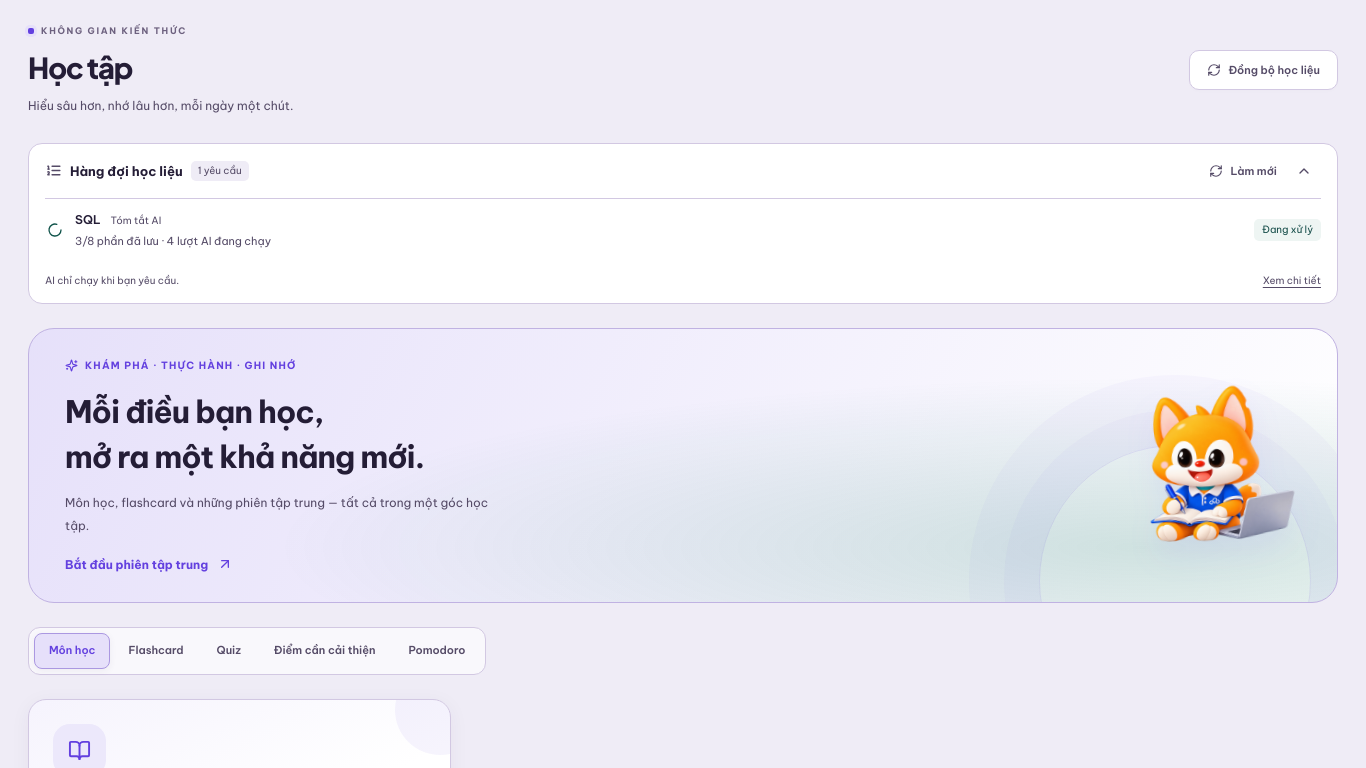
Test: Manual AI summaries and visible sequential queue › shows parallel part progress for the active course without starting more AI
expect the text "3/8 phần đã lưu · 4 lượt AI đang chạy" is shown: met, box [75,234,271,248]
Click the button "Xem chi tiết". click: (1292, 281)
box: [1263,270,1321,292]
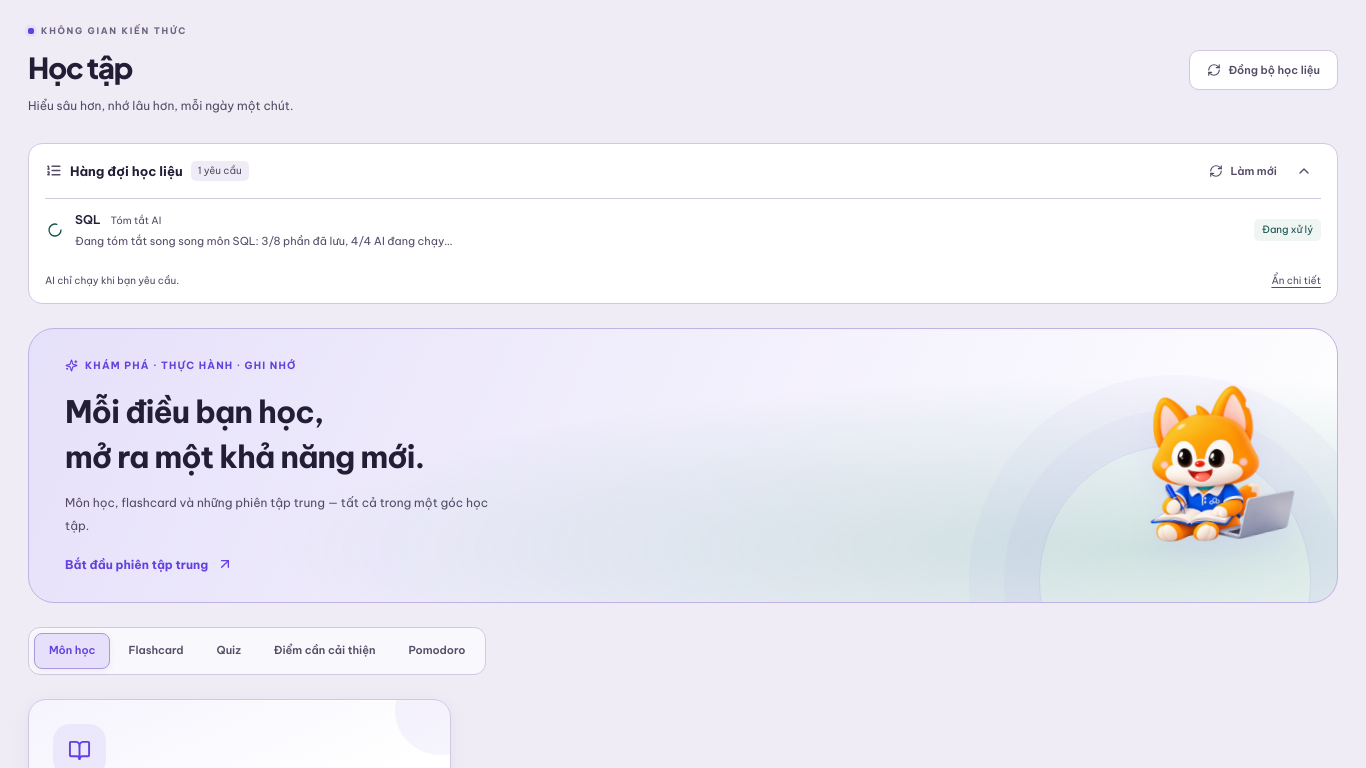
expect the text "Đang tóm tắt song song môn SQL: 3/8 phần đã lưu, 4/4 AI đang chạy…" is shown: met, box [75,234,452,248]
Click the button named "Thu gọn hàng đợi". click: (1304, 171)
box: [1287,156,1321,186]
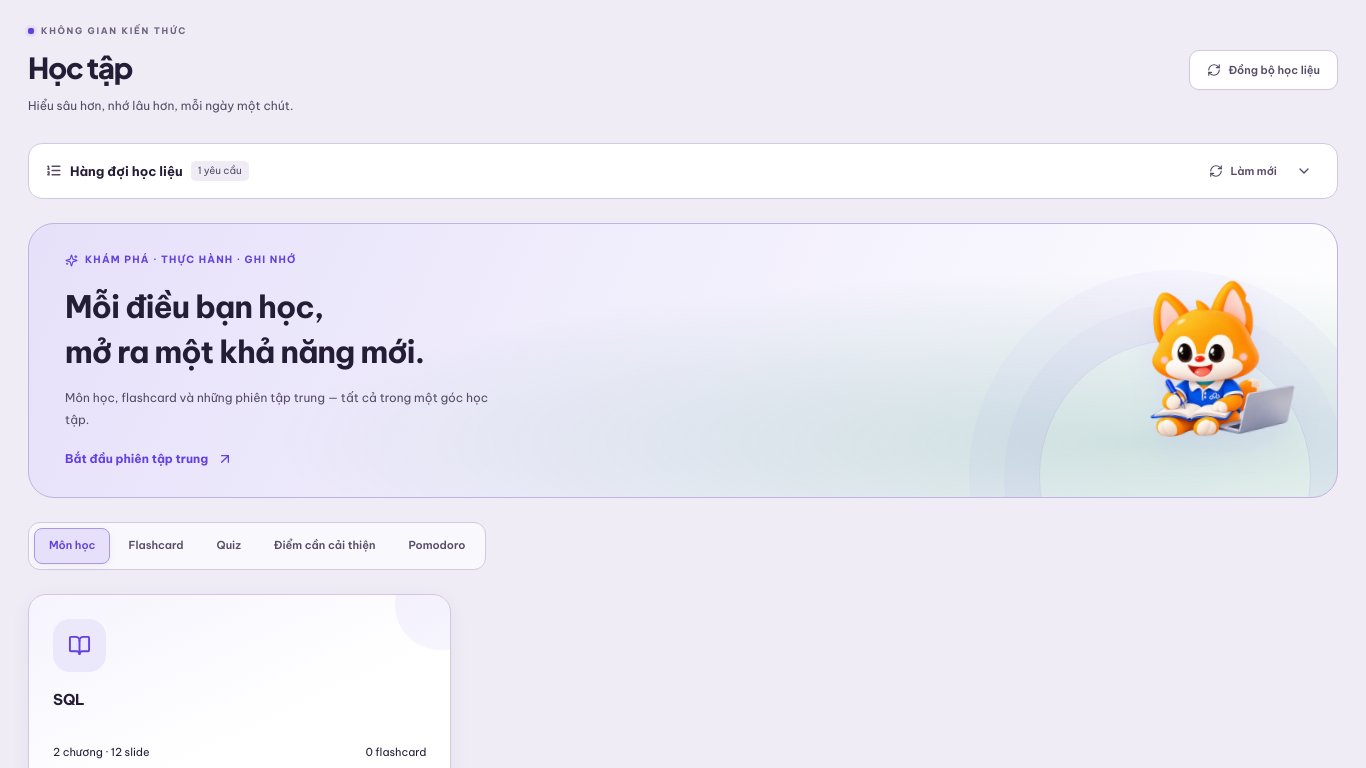
Click the button named "Mở rộng hàng đợi". click: (1304, 171)
box: [1287,156,1321,186]
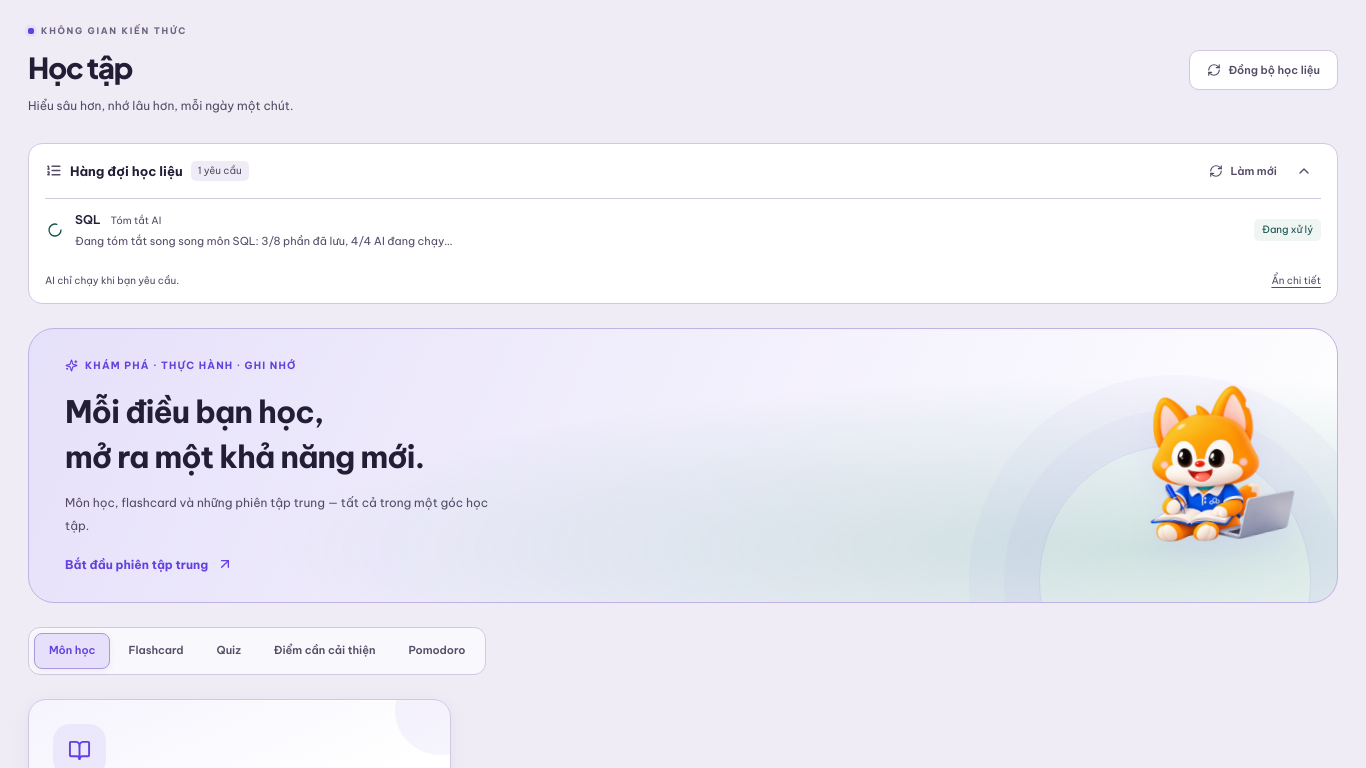
expect the list item with aria-label "Đang xử lý · Tóm tắt AI · SQL" is shown: met, box [45,198,1321,261]
